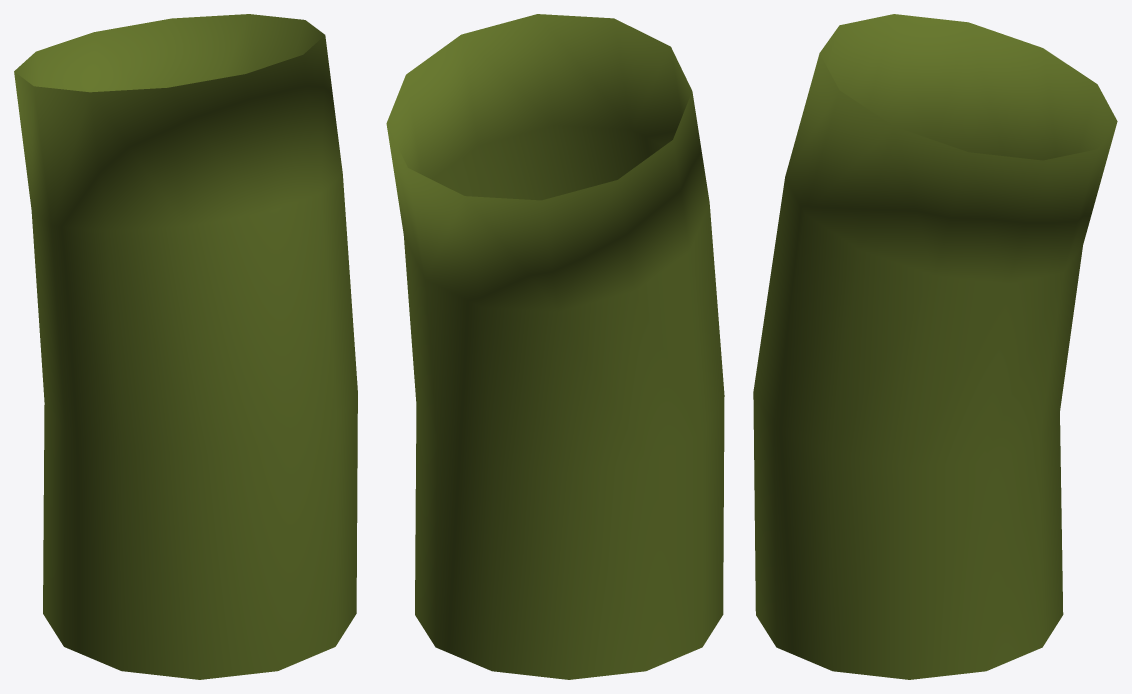
3 renders of one model, left to right at view 1: azimuth 30°, elevation 25°; view 2: azimuth 150°, elevation 25°; view 3: azimuth 270°, elevation 25°, orthographic. The views are drawn at different scales.
Parts seen in each view (by area): view 1: SM_BO_Marrentil_LOD0; view 2: SM_BO_Marrentil_LOD0; view 3: SM_BO_Marrentil_LOD0.
Part boxes in pixels (bbox=[...]): SM_BO_Marrentil_LOD0: bbox=[14, 14, 357, 679]; SM_BO_Marrentil_LOD0: bbox=[386, 14, 724, 679]; SM_BO_Marrentil_LOD0: bbox=[753, 14, 1117, 679].
Bounding box in the file's own units: 0.1353 × 0.2728 × 0.1603.
